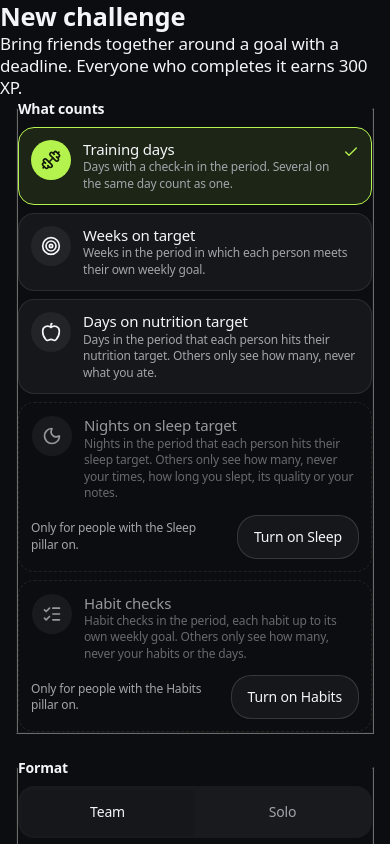
NewChallengeSheet › suggests days on target and keeps the goal inside the period
Click the radio button labelled "Days on nutrition target": x=195, y=347 [18,299,372,394]
(page scrolled)
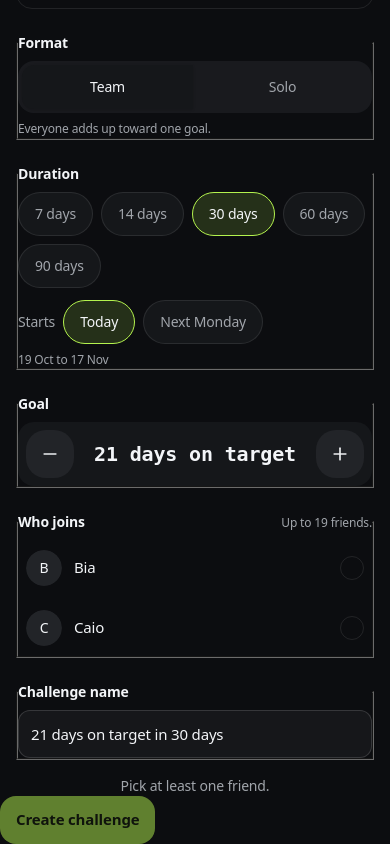
Expected: the text "21 days on target" is shown, [94,440,296,468]
Click the checkbox labelled "B Bia": x=44, y=568 [18,540,372,596]
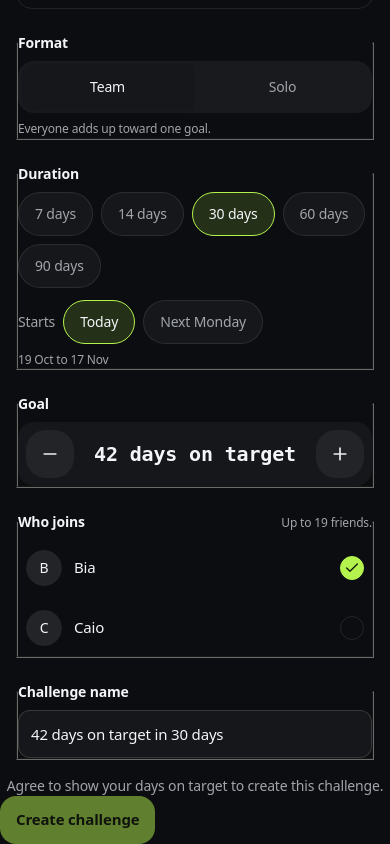
Expected: the text "42 days on target" is shown, [94,440,296,468]
Expected: the field named "Challenge name" holds "42 days on target in 30 days", [18,710,372,758]
Click the radio button labelled "Solo": x=282, y=87 [197,65,368,109]
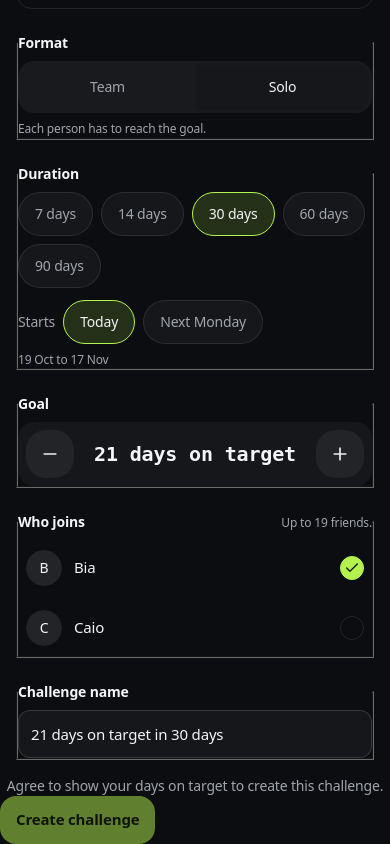
Click the button "7 days": x=56, y=214 [18,192,93,236]
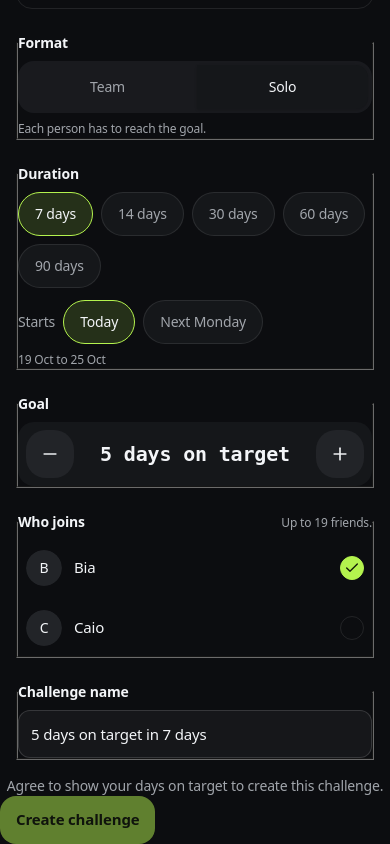
Expected: the text "5 days on target" is shown, [100,440,290,468]
Click the button named "More": x=340, y=454 [316,430,364,478]
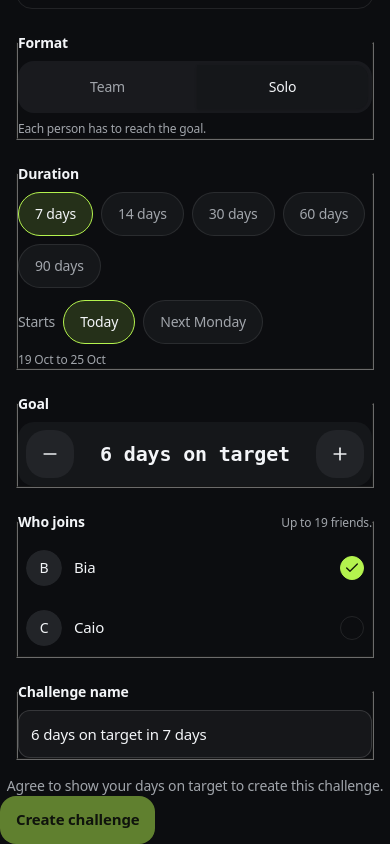
Click the button named "More": x=340, y=454 [316,430,364,478]
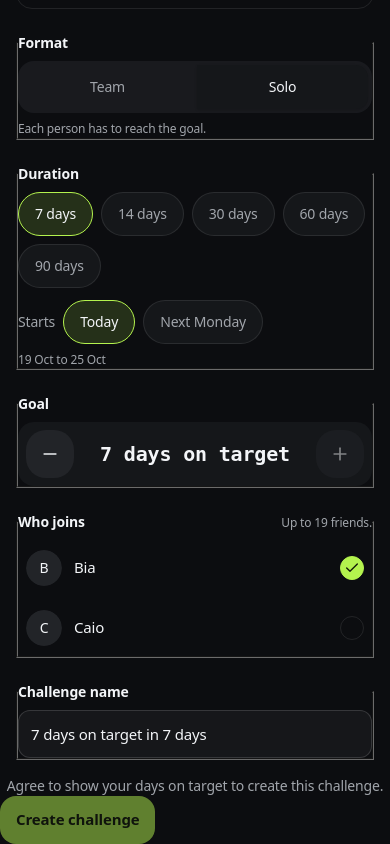
Expected: the text "7 days on target" is shown, [100,440,290,468]
Expected: the button named "More" is disabled, [316,430,364,478]
